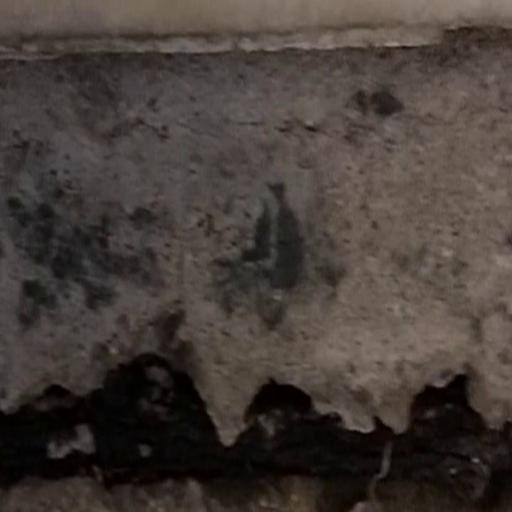spalling: (5, 26, 512, 511)
